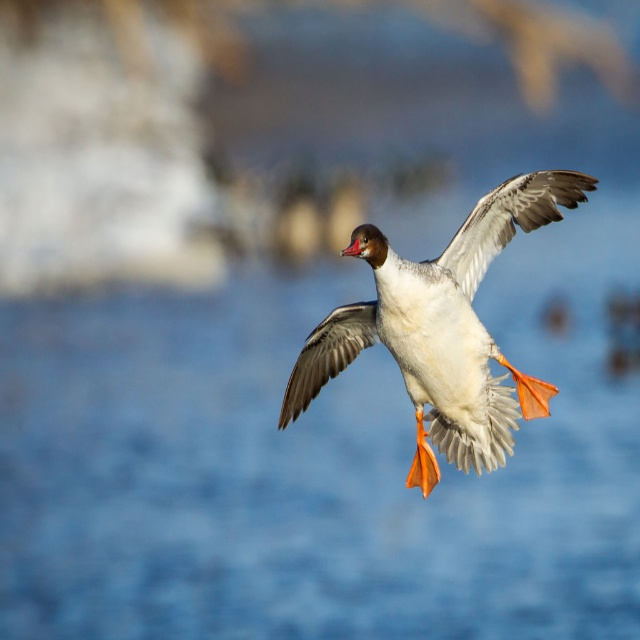Duck: (301, 171, 582, 498)
